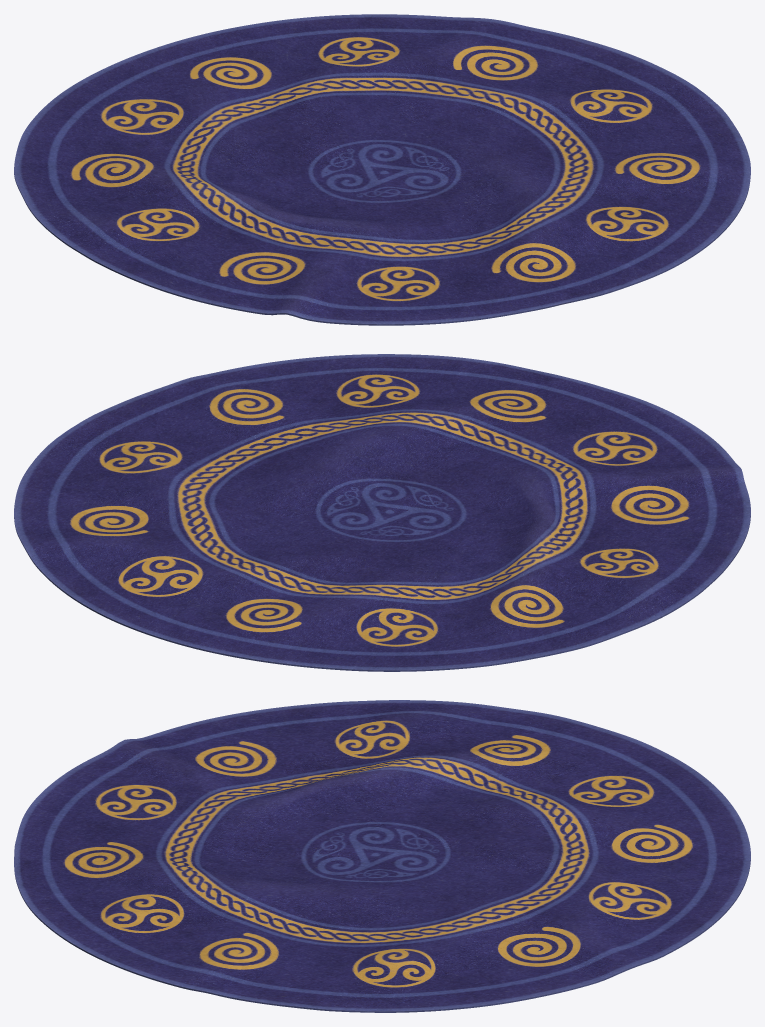
File: carpet.glb
3 renders of one model, top to bottom at view 1: azimuth 30°, elevation 25°; view 2: azimuth 150°, elevation 25°; view 3: azimuth 270°, elevation 25°, orthographic.
Visible parts, largest first — view 1: LC; view 2: LC; view 3: LC.
Part boxes in pixels (left/top/right/bottom): LC: left=14, top=14, right=750, bottom=325; LC: left=14, top=354, right=750, bottom=671; LC: left=14, top=700, right=750, bottom=1012.
Bounding box in the file's own units: 14.94 × 0.3085 × 14.94.
Materials: 1 (1 with a texture image).
